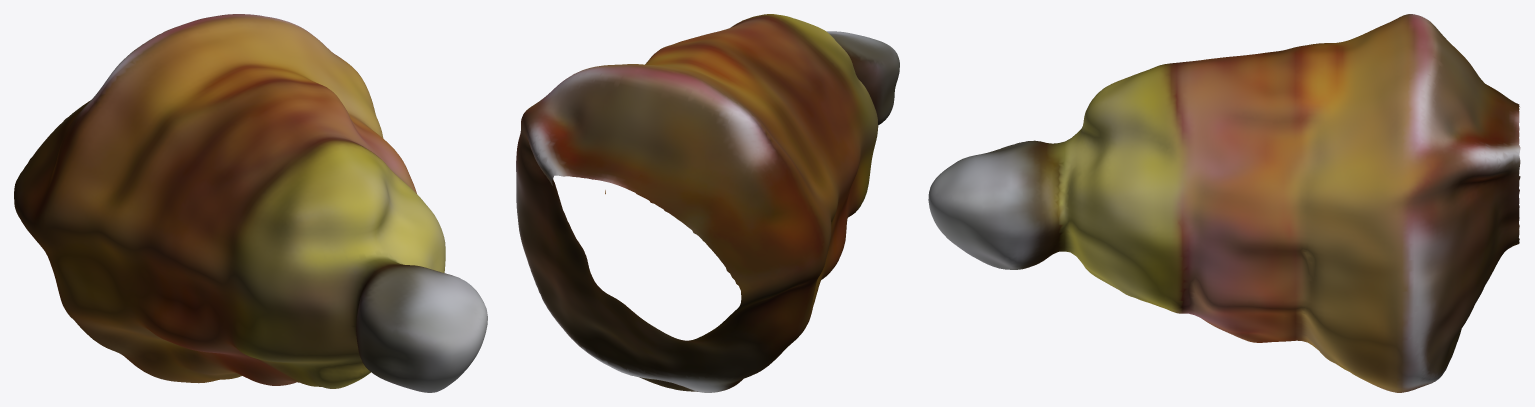
File: chicken.glb
The picture shows the model from 3 angles, left to right: view 1: azimuth 30°, elevation 25°; view 2: azimuth 150°, elevation 25°; view 3: azimuth 270°, elevation 25°; orthographic projection. The views are drawn at different scales.
Size of the model in its own units: 0.6472 by 0.6497 by 0.9998.
